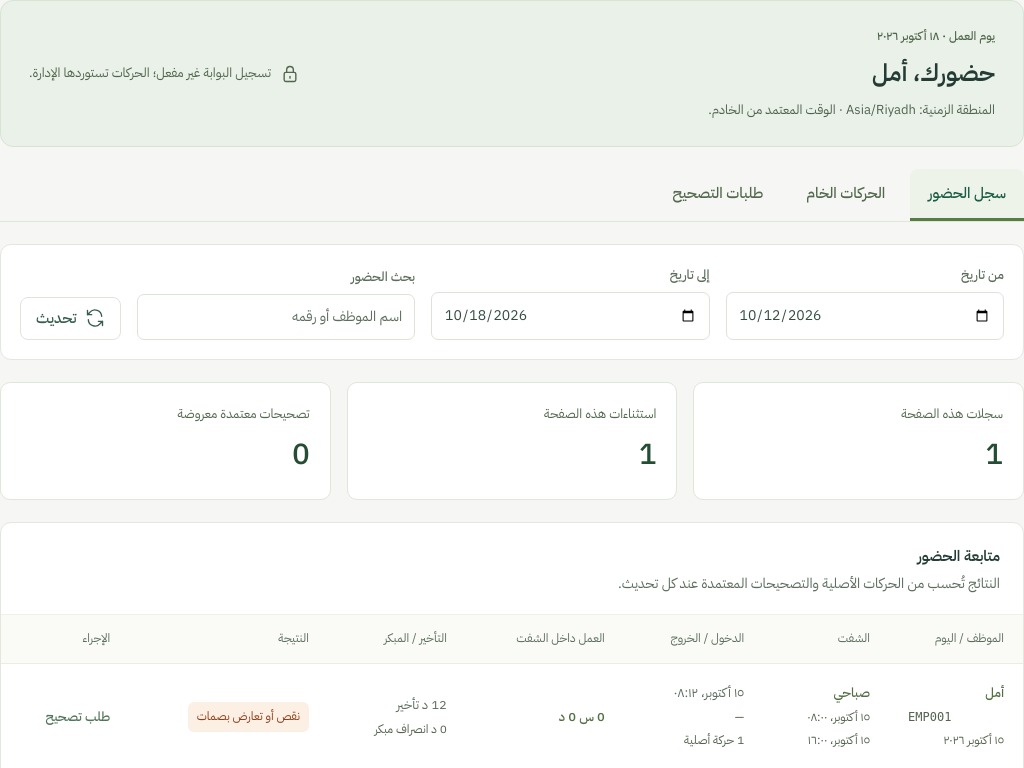
Test: attendance workflows › submits correction times in the schedule zone and retains input when the server rejects it
Click the button "طلب تصحيح" at (78, 717), box [46,702,110,732]
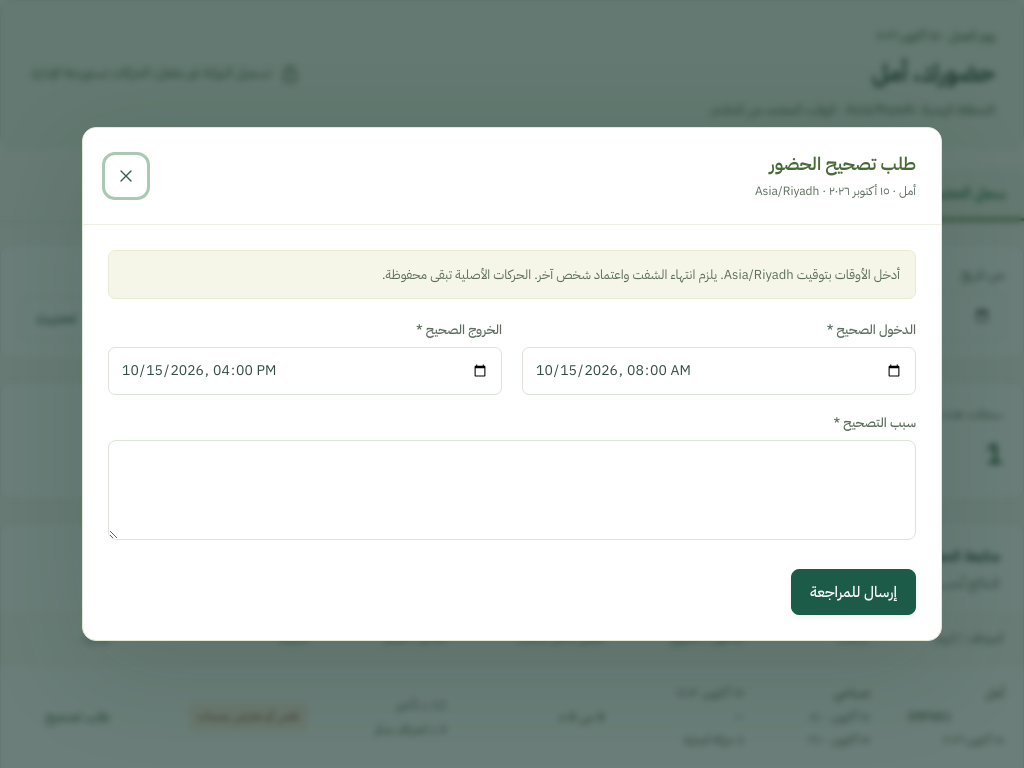
Now the field labelled "الدخول الصحيح *" holds "2026-10-15T08:00", box [522,347,916,394]
Type "انقطاع جهاز الحضور" into the text box labelled "سبب التصحيح *" at (512, 490), box [108,440,916,540]
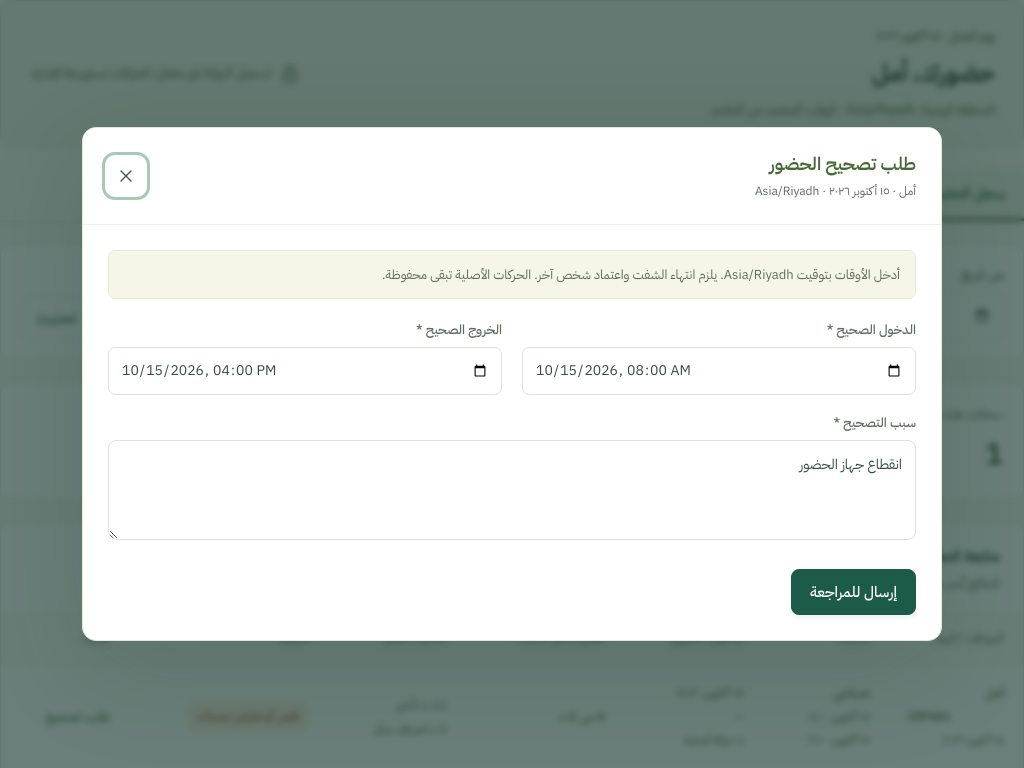
Click the button "إرسال للمراجعة" at (854, 592), box [791,568,916,615]
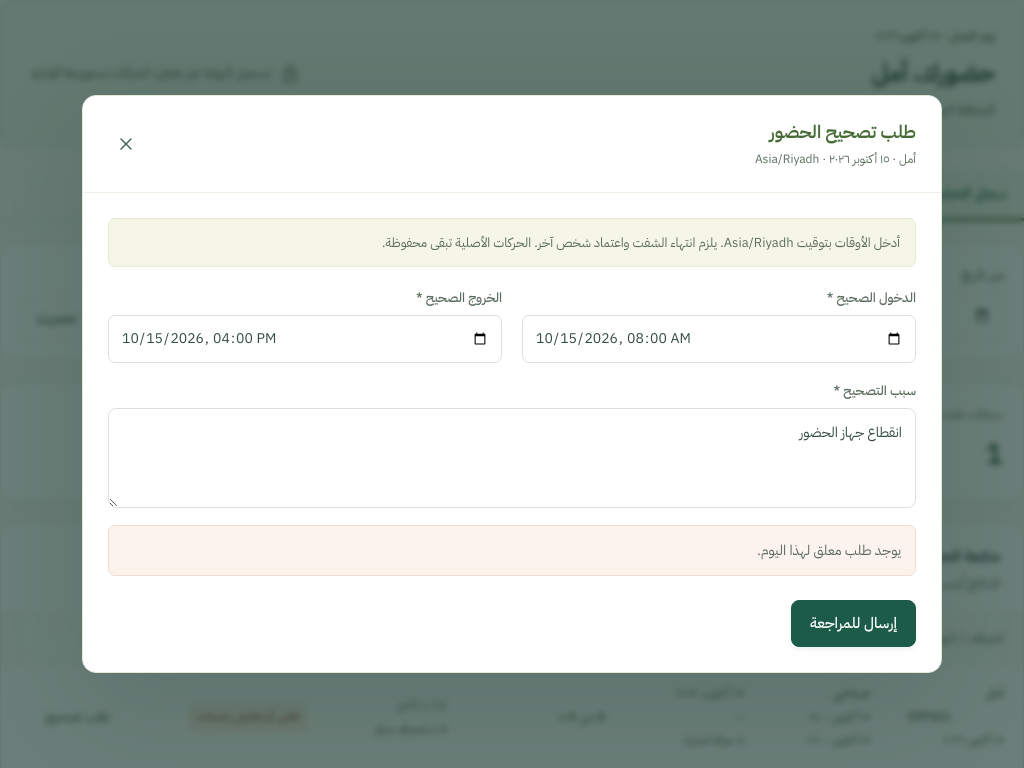
Now the text "يوجد طلب معلق لهذا اليوم." is shown, box [108,525,916,576]
